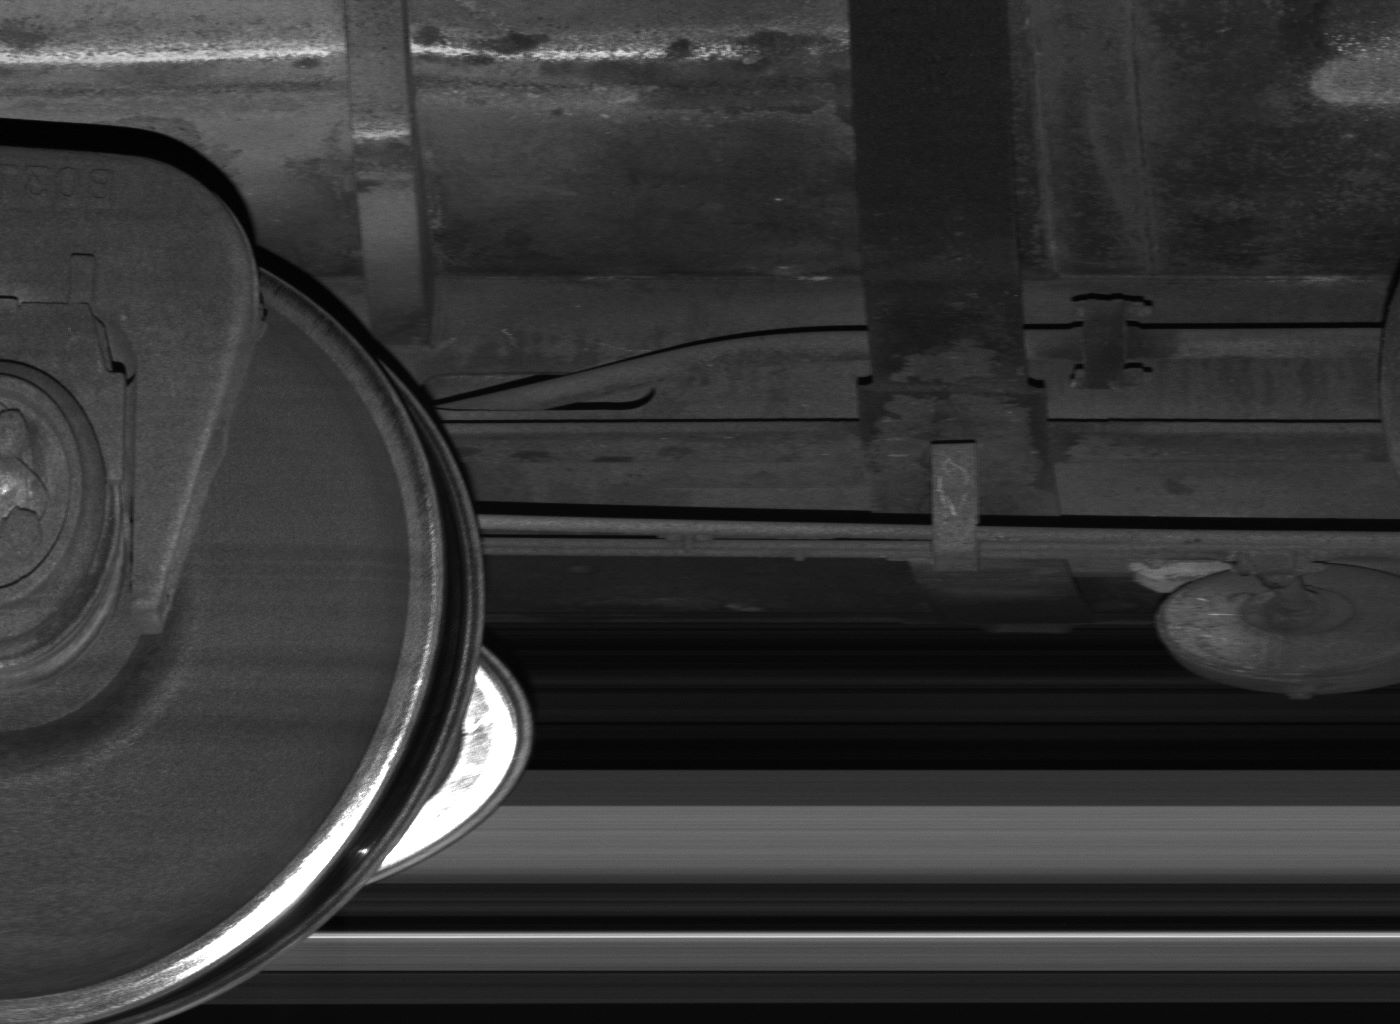normal: (926, 441, 982, 576)
